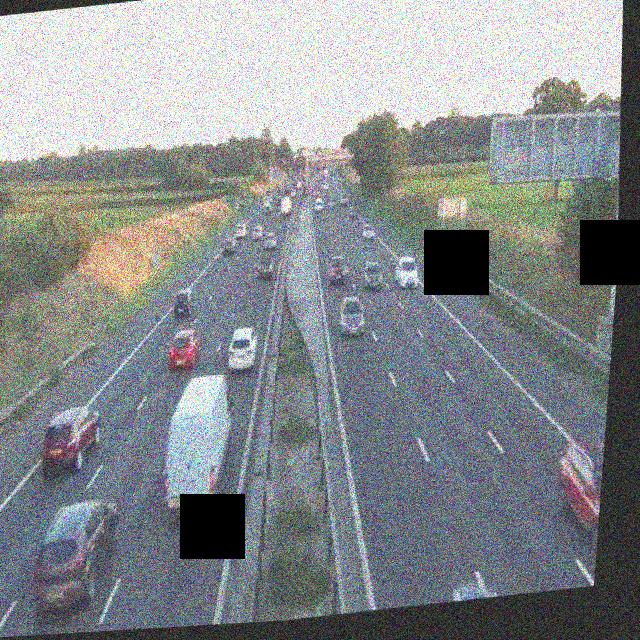car: (29, 497, 124, 613), (549, 434, 605, 569), (38, 403, 104, 477), (166, 326, 203, 372), (225, 327, 260, 371), (445, 578, 507, 602), (336, 296, 366, 336), (393, 254, 421, 288), (360, 258, 385, 292), (171, 287, 195, 319), (327, 253, 349, 285), (256, 255, 275, 281), (262, 232, 278, 253), (221, 236, 237, 256), (361, 222, 376, 242), (250, 223, 264, 241), (234, 223, 248, 241), (347, 203, 359, 218), (313, 196, 323, 211), (339, 193, 349, 205)
truck: (156, 374, 239, 521), (279, 195, 293, 216)
